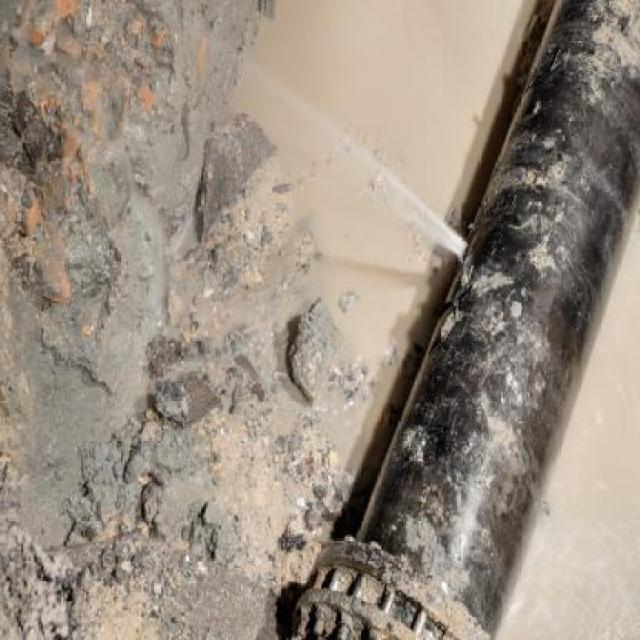leak: (263, 90, 472, 263)
